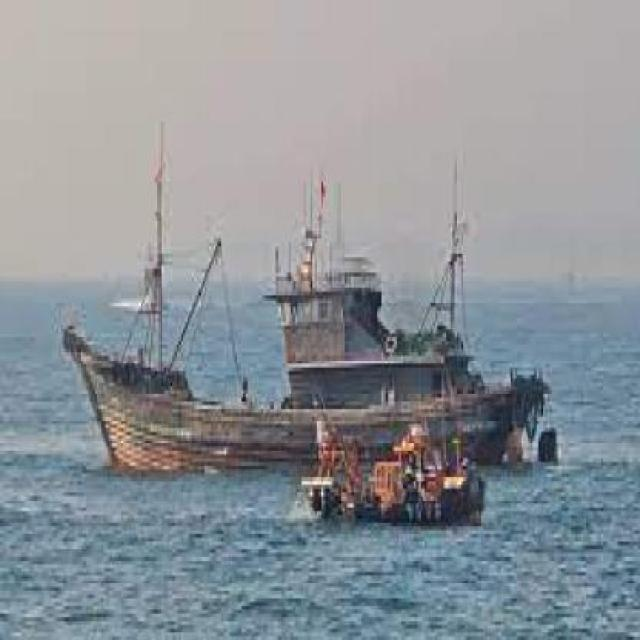fish-b: (50, 111, 575, 494)
